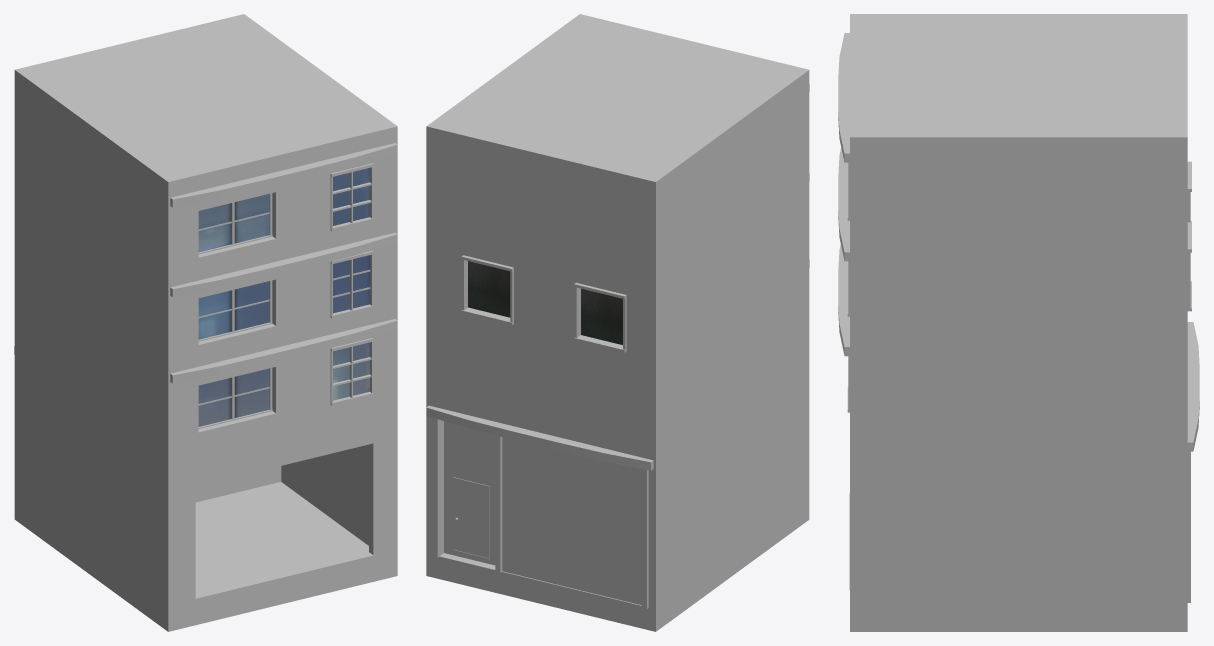
Rendered from bldg_mall_21b.fbx.
3 renders of one model, left to right at view 1: azimuth 30°, elevation 25°; view 2: azimuth 150°, elevation 25°; view 3: azimuth 270°, elevation 25°, orthographic. The views are drawn at different scales.
Parts seen in each view (by area): view 1: bldg_mall_21b; view 2: bldg_mall_21b; view 3: bldg_mall_21b.
Boxes of the visible parts, x1,y1,x2,y2 form: bldg_mall_21b: [14, 14, 397, 631]; bldg_mall_21b: [426, 14, 809, 631]; bldg_mall_21b: [838, 14, 1199, 631].
Bounding box in the file's own units: 6.65 × 12.45 × 8.25.
